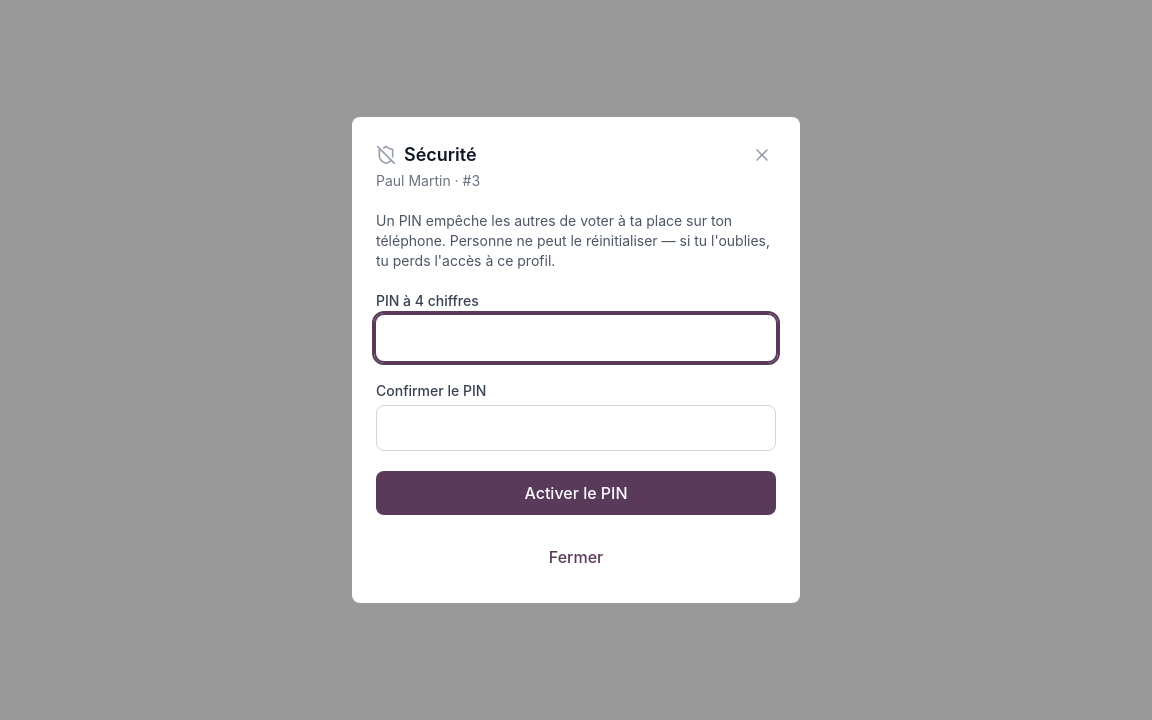
SecurityModal — profil SANS PIN › affiche une confirmation claire après activation
The width and height of the screenshot is (1152, 720).
In the password field labelled "PIN à 4 chiffres": (576, 338) [376,315,776,361], type "1234"
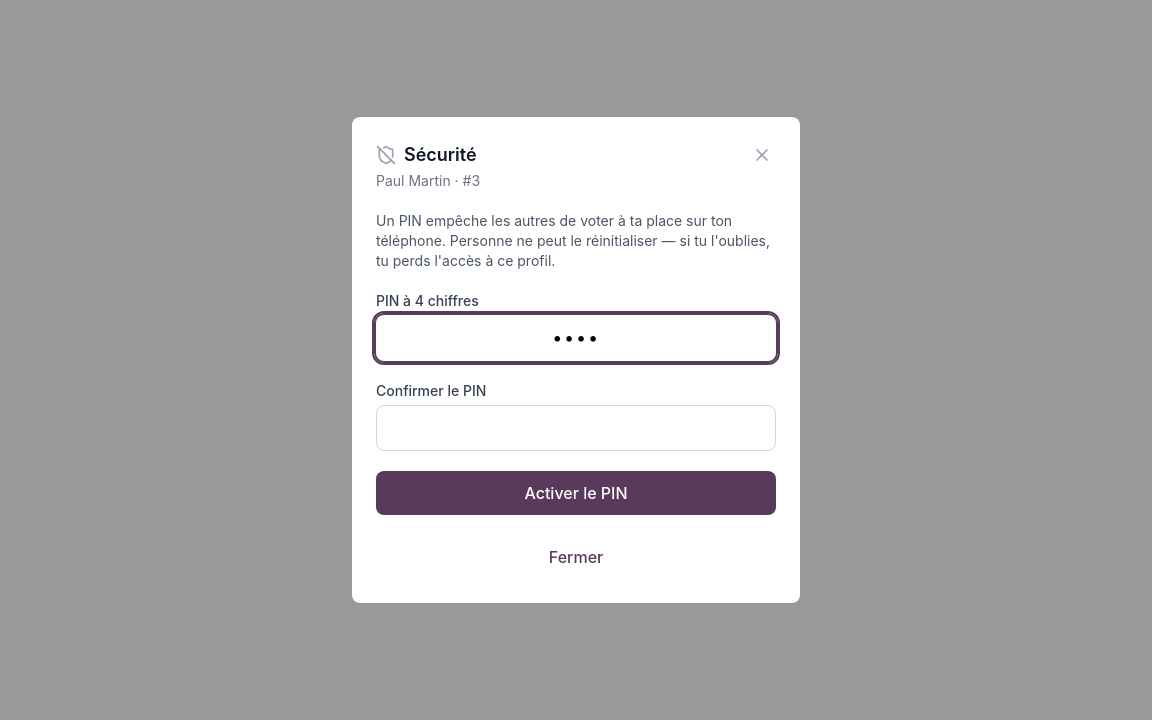
In the password field labelled "Confirmer le PIN": (576, 428) [376,405,776,451], type "1234"
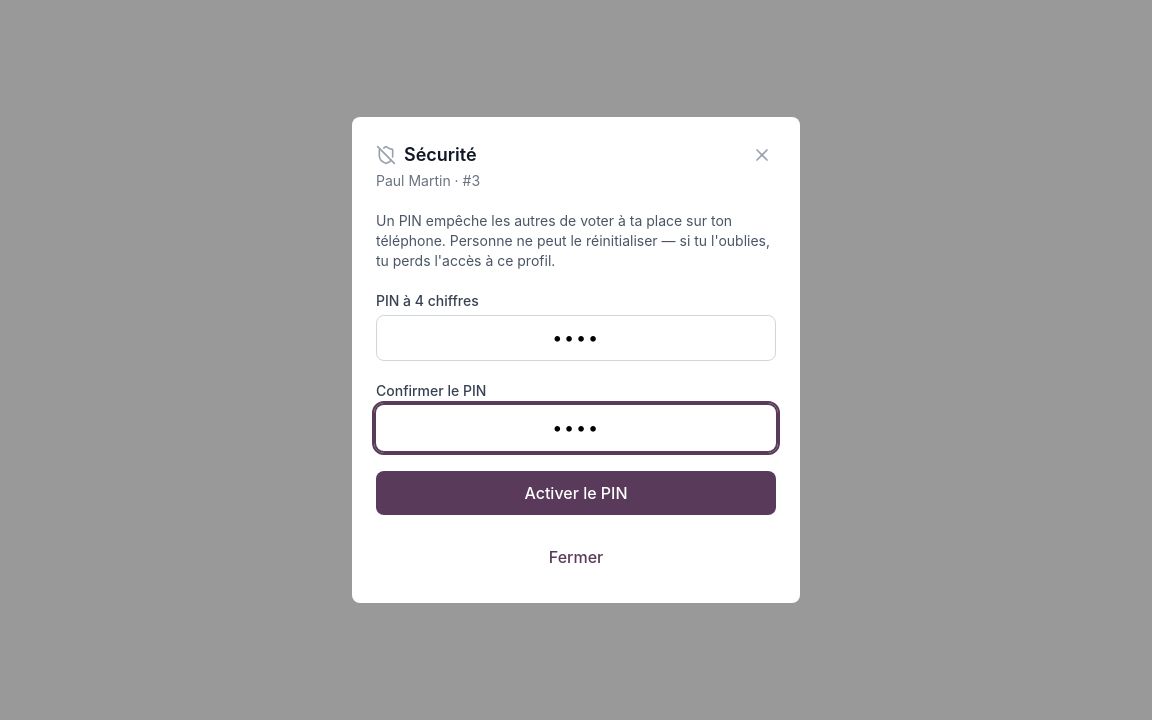
Click the button "Activer le PIN": (576, 493) [376,471,776,515]
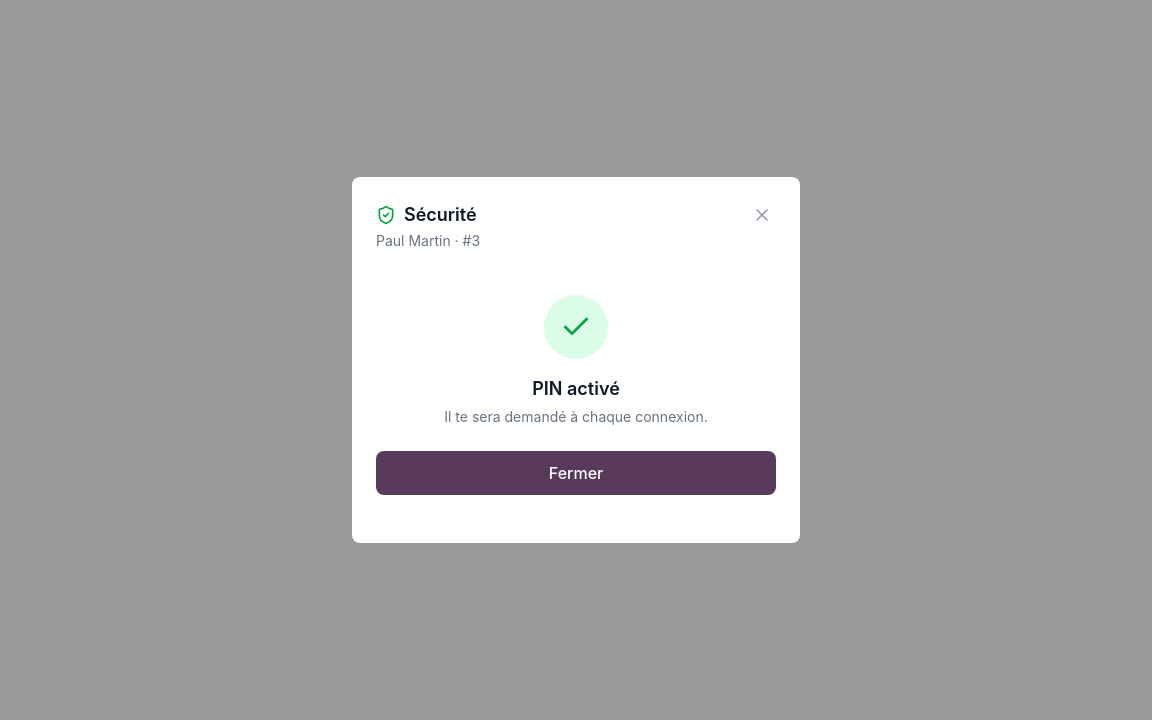
expect the text "PIN activé" is shown: met, box [532,378,620,399]
expect the label labelled "PIN à 4 chiffres" is gone: met
expect the label labelled "Confirmer le PIN" is gone: met
